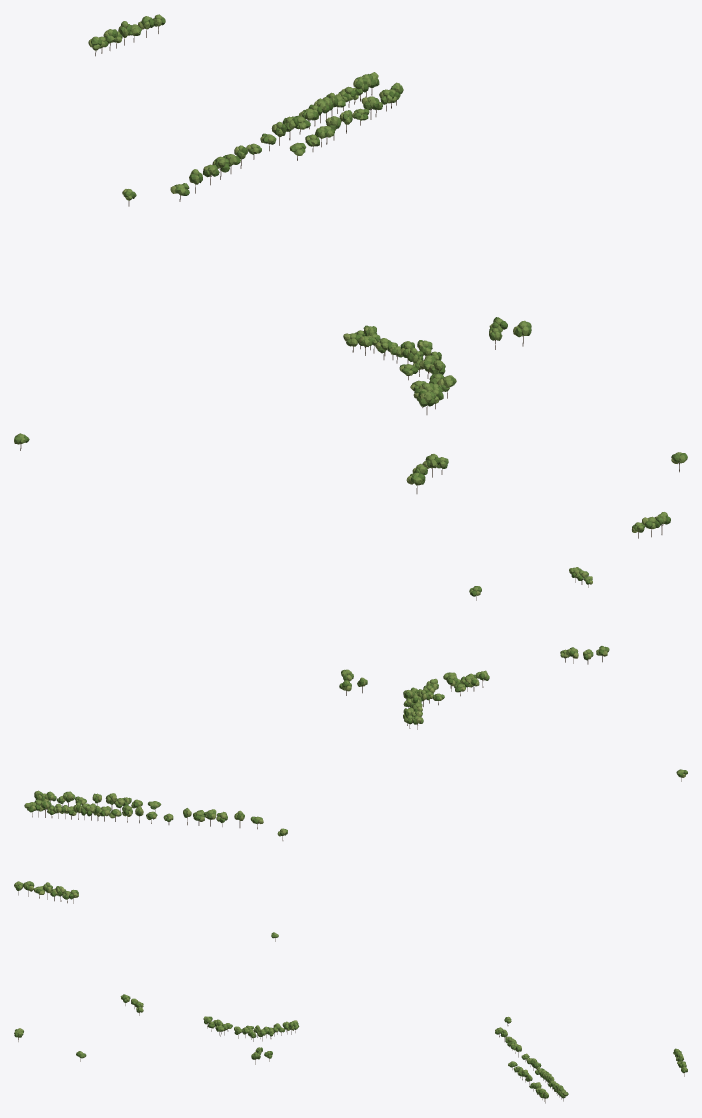
The model's file is city-landscape.glb.
The picture shows the model from 3 angles, top to bottom: view 1: azimuth 30°, elevation 25°; view 2: azimuth 150°, elevation 25°; view 3: azimuth 270°, elevation 25°; orthographic projection. The views are drawn at different scales.
Visible parts, largest first — view 1: Trees | foliage 1, Trees | foliage 0, Trees | foliage 2, Trees | foliage 3; view 2: Trees | foliage 1, Trees | foliage 2, Trees | foliage 3, Trees | foliage 0; view 3: Trees | foliage 1, Trees | foliage 2, Trees | foliage 0.
Part boxes in pixels (x1,y1,x2,y2): Trees | foliage 1: [16, 14, 686, 531]; Trees | foliage 0: [14, 17, 687, 531]; Trees | foliage 2: [15, 17, 687, 532]; Trees | foliage 3: [14, 18, 678, 532]; Trees | foliage 1: [14, 567, 683, 897]; Trees | foliage 2: [15, 567, 683, 899]; Trees | foliage 3: [19, 569, 685, 897]; Trees | foliage 0: [15, 568, 687, 895]; Trees | foliage 1: [14, 933, 687, 1097]; Trees | foliage 2: [14, 934, 687, 1098]; Trees | foliage 0: [15, 932, 685, 1098].
Size of the model in its own units: 442 by 15.97 by 762.
